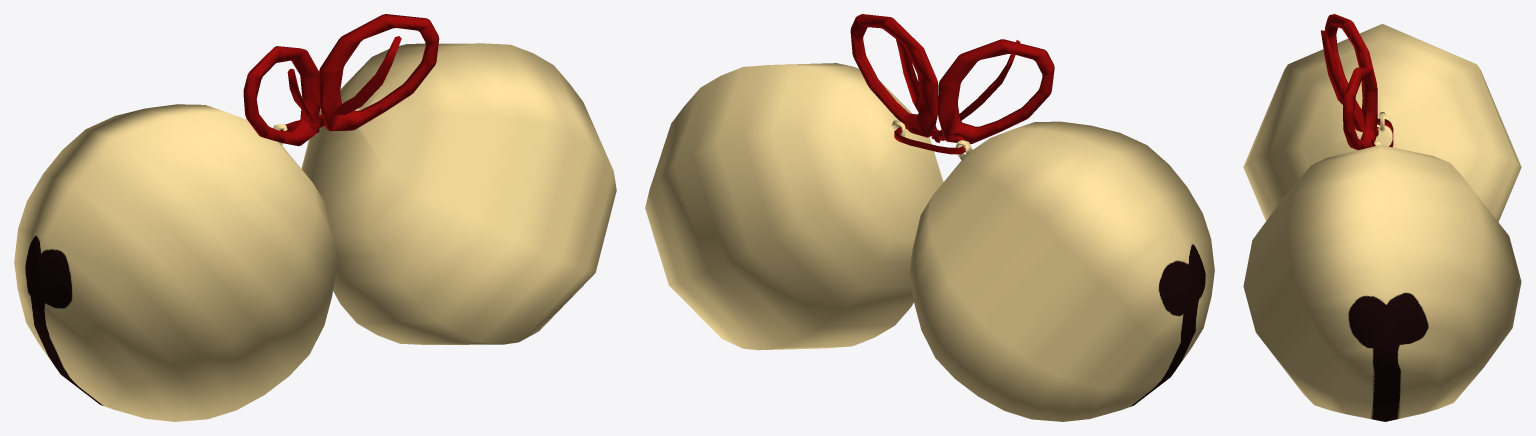
File: BellsRibbon1572v2.fbx
3 views of the same model, side by side, from view 1: azimuth 30°, elevation 25°; view 2: azimuth 150°, elevation 25°; view 3: azimuth 270°, elevation 25° (orthographic). The views are drawn at different scales.
Parts seen in each view (by area): view 1: BellWithRibbon1; view 2: BellWithRibbon1; view 3: BellWithRibbon1.
Part boxes in pixels (x1,y1,x2,y2): BellWithRibbon1: [14, 14, 616, 421]; BellWithRibbon1: [645, 14, 1214, 421]; BellWithRibbon1: [1243, 14, 1521, 421].
Size of the model in its own units: 120 by 73.54 by 60.
